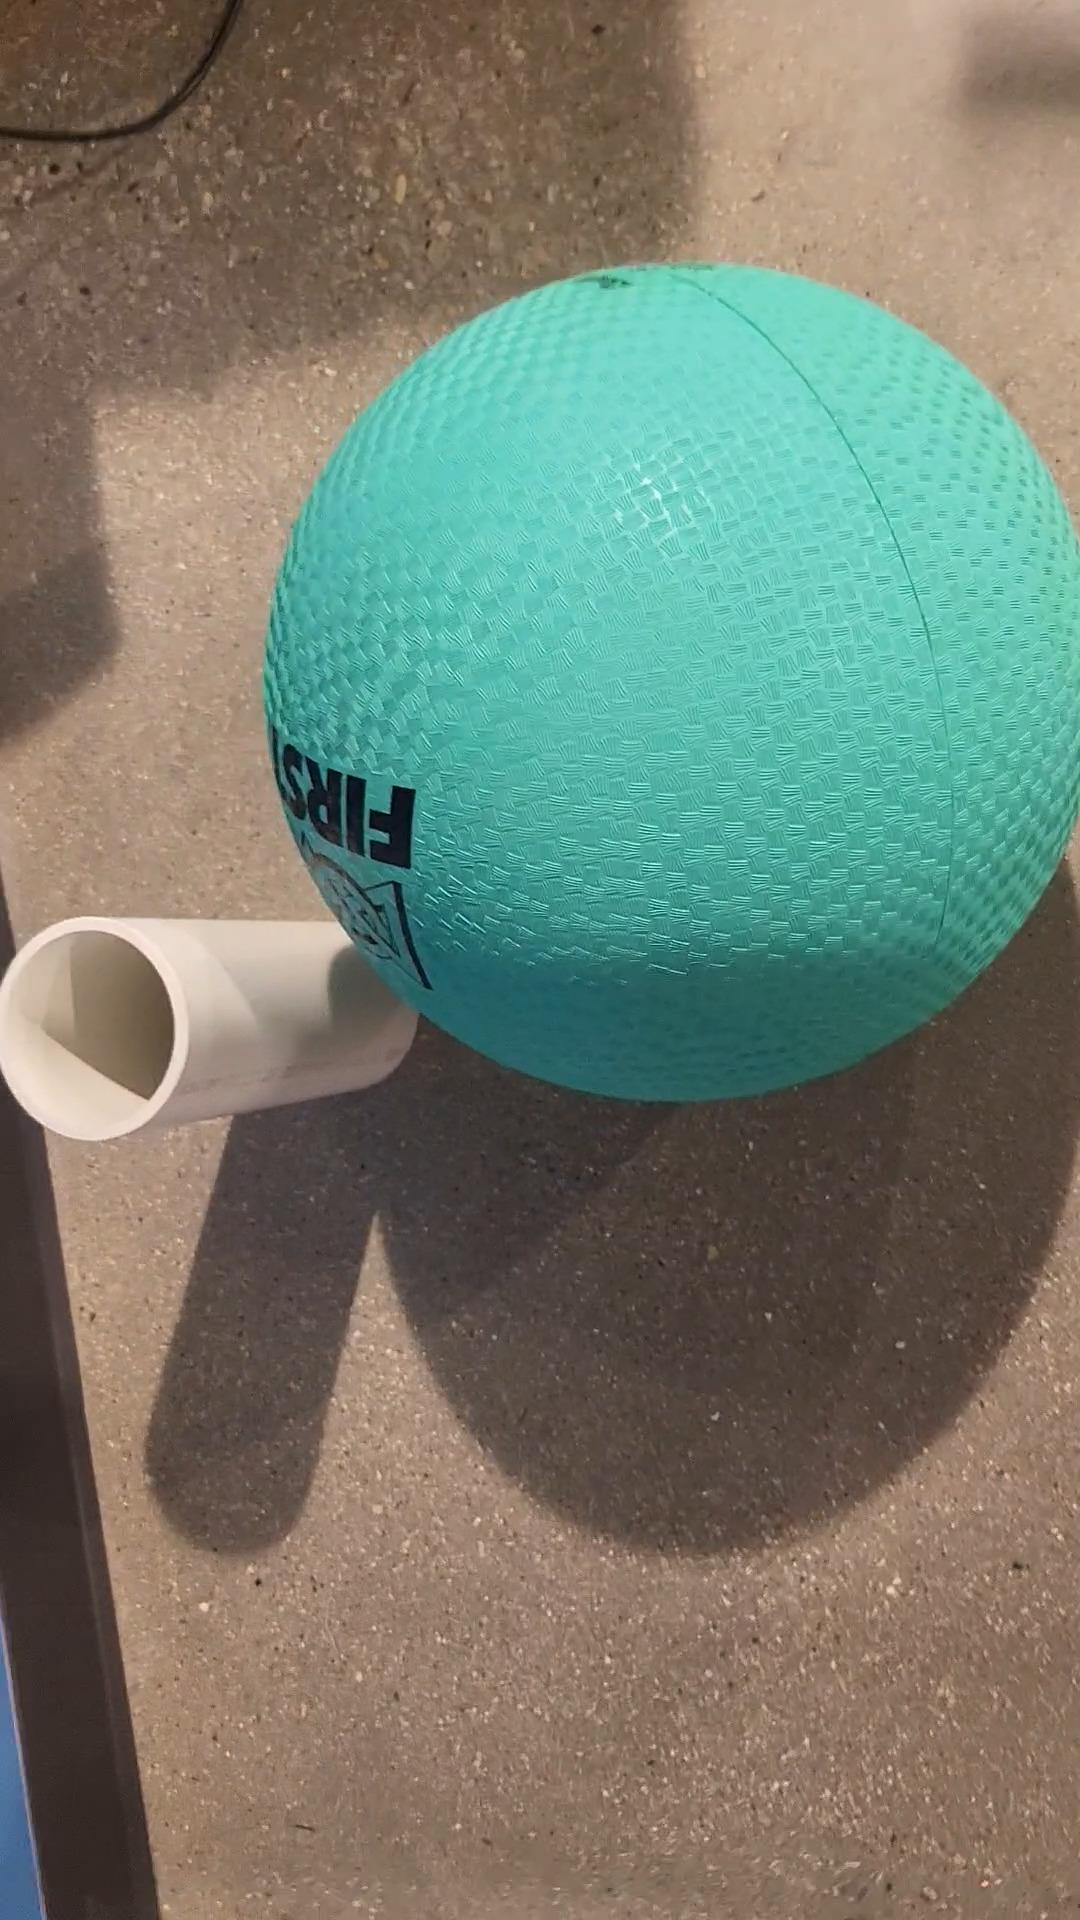algae: (276, 265, 1079, 1097)
coral: (0, 910, 413, 1133)
